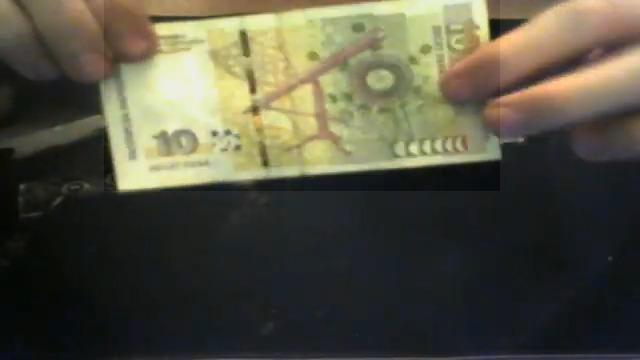10leva: (104, 0, 500, 191)
